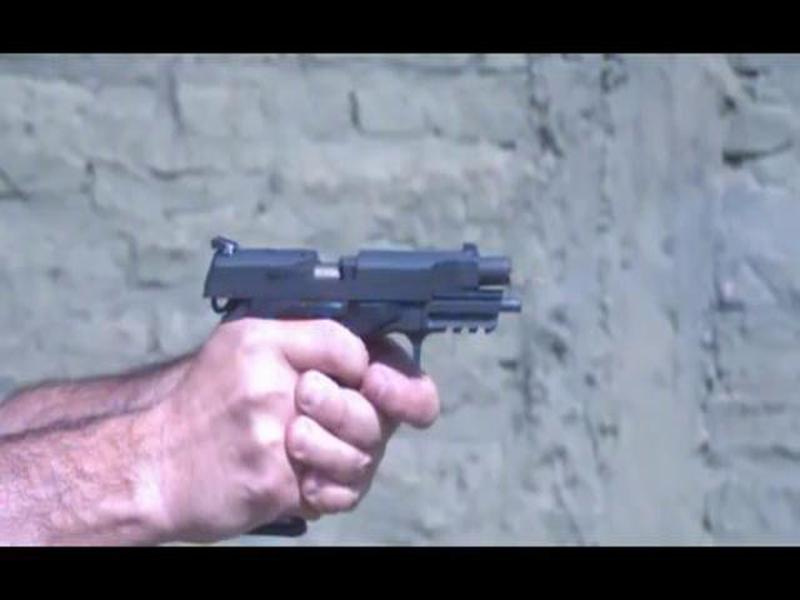Pistola: (166, 215, 566, 394)
